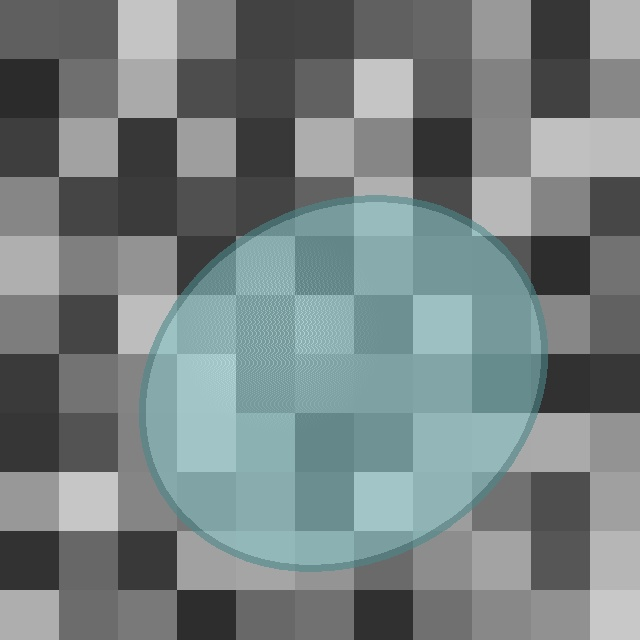lens: (142, 199, 544, 567)
